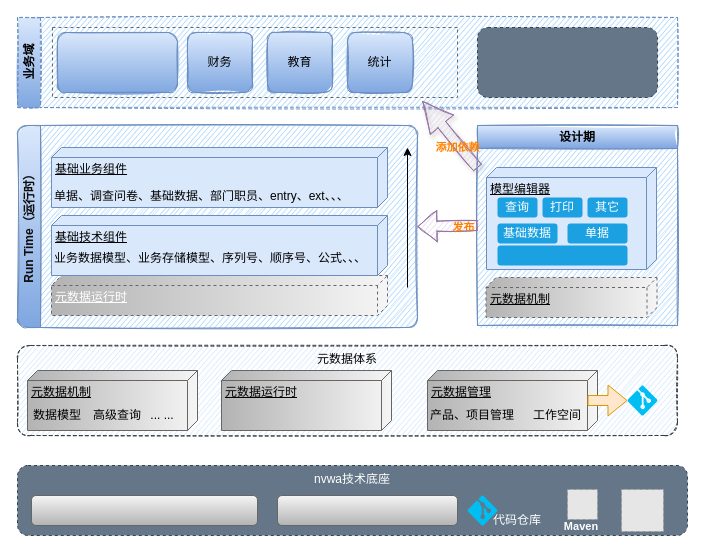
The diagram is 705 pixels wide and 553 high, and some of its shapes have lost their labels. Grey dashed boxes stand in for pictures. The centre of each missing label's shape, as x and y in pixels:
Nvwa Framework: pixel 144 510
Nvwa 流水线（组件构建）: pixel 367 510
业务构建服务 资产、【财务】、其它: pixel 567 62
数据模型编辑器: pixel 562 255
资产 卡片核心、其它: pixel 117 62
